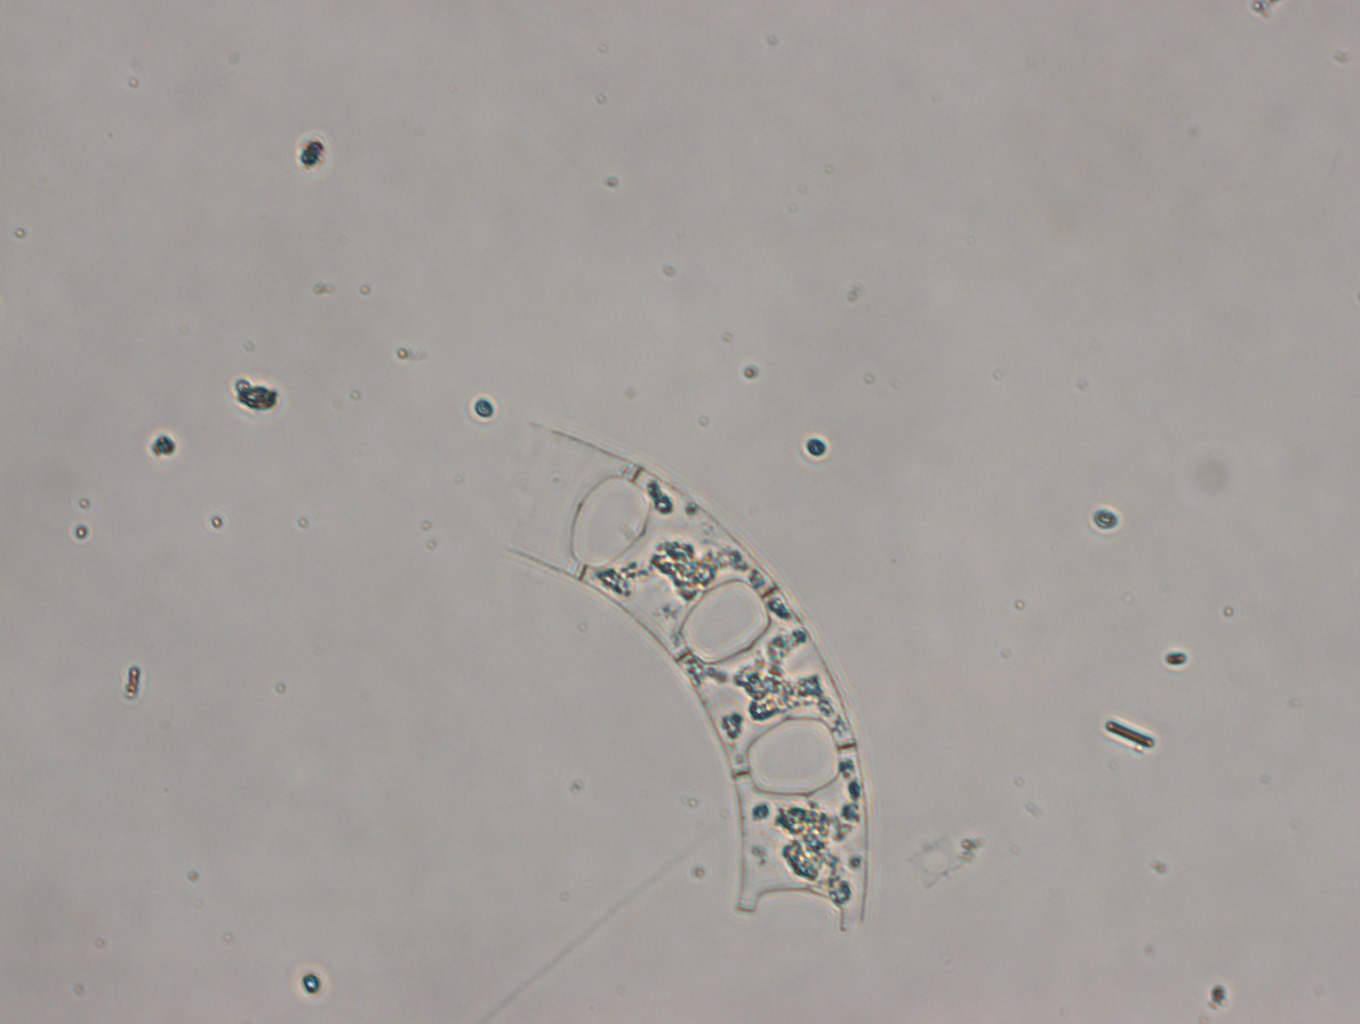eucampia: (499, 419, 869, 931)
